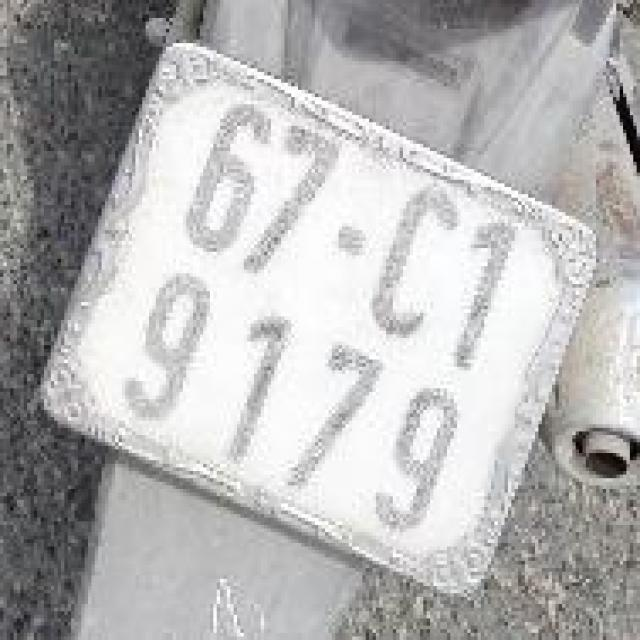1: (198, 298, 304, 480), (427, 212, 528, 387)
6: (170, 91, 284, 274)
7: (229, 119, 353, 302), (272, 329, 393, 512)
9: (358, 372, 472, 551), (110, 258, 221, 440)
C: (358, 177, 471, 353)
